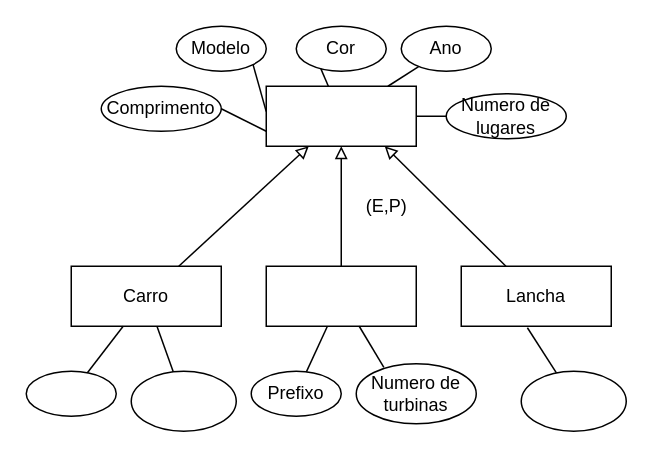
Some shapes in this 653 by 458 pixel diagram are drawn without their labels. The box of each missing label's shape, as (x1, y1, x2, y2) in pixels:
Avião: (265, 265, 416, 326)
Numero de motores: (520, 370, 626, 431)
Numero de portas: (130, 370, 236, 431)
Placa: (25, 370, 116, 416)
Veiculo: (265, 85, 416, 146)
